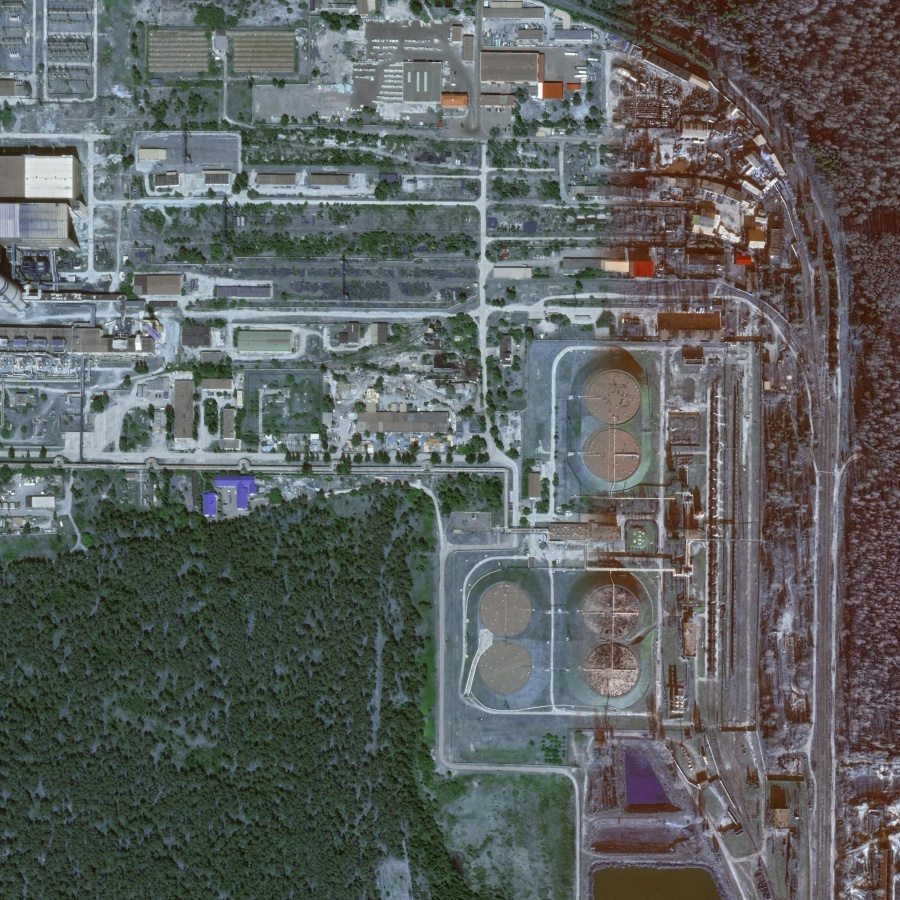PowerPlant: (439, 358, 687, 722)
